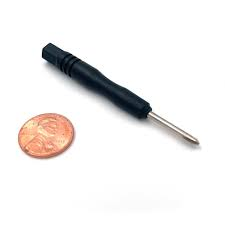Screwdriver: (42, 43, 198, 143)
